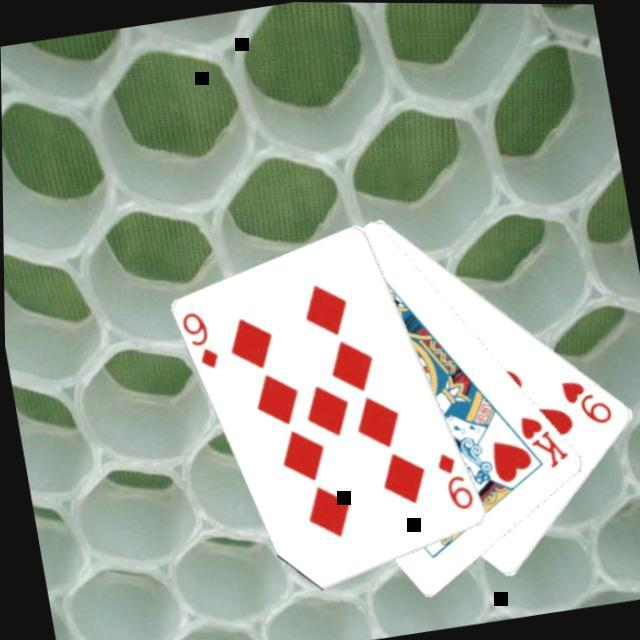9D: (433, 447, 479, 517), (180, 308, 226, 377)
9H: (558, 372, 619, 433)
KH: (516, 407, 575, 476)
